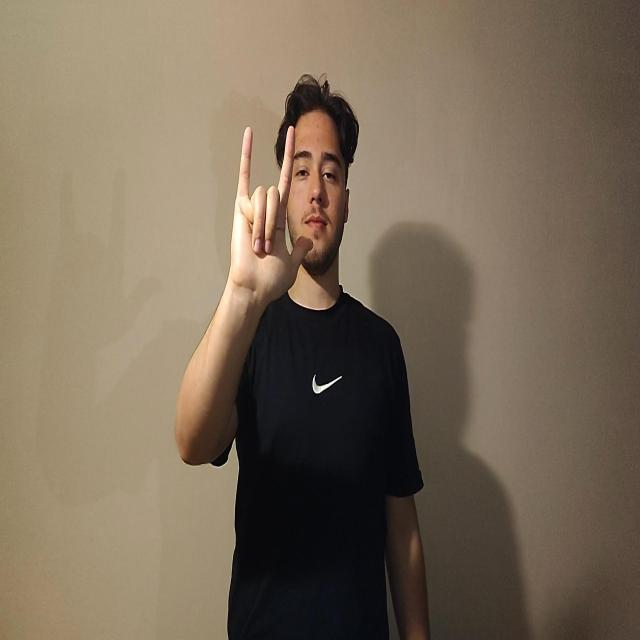iloveyou: (228, 123, 314, 310)
